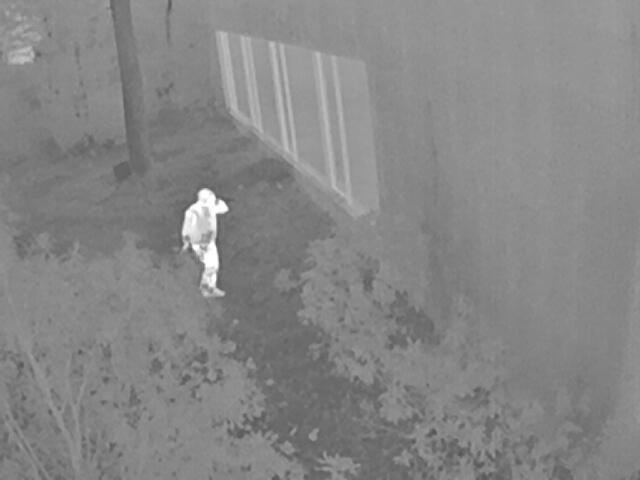person: (181, 187, 227, 294)
